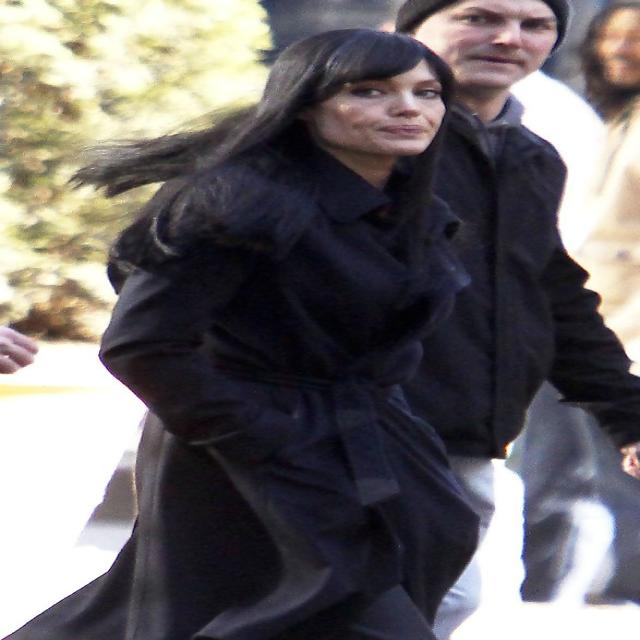body: (1, 25, 489, 639), (388, 0, 640, 640), (508, 3, 637, 605), (0, 309, 46, 383)
